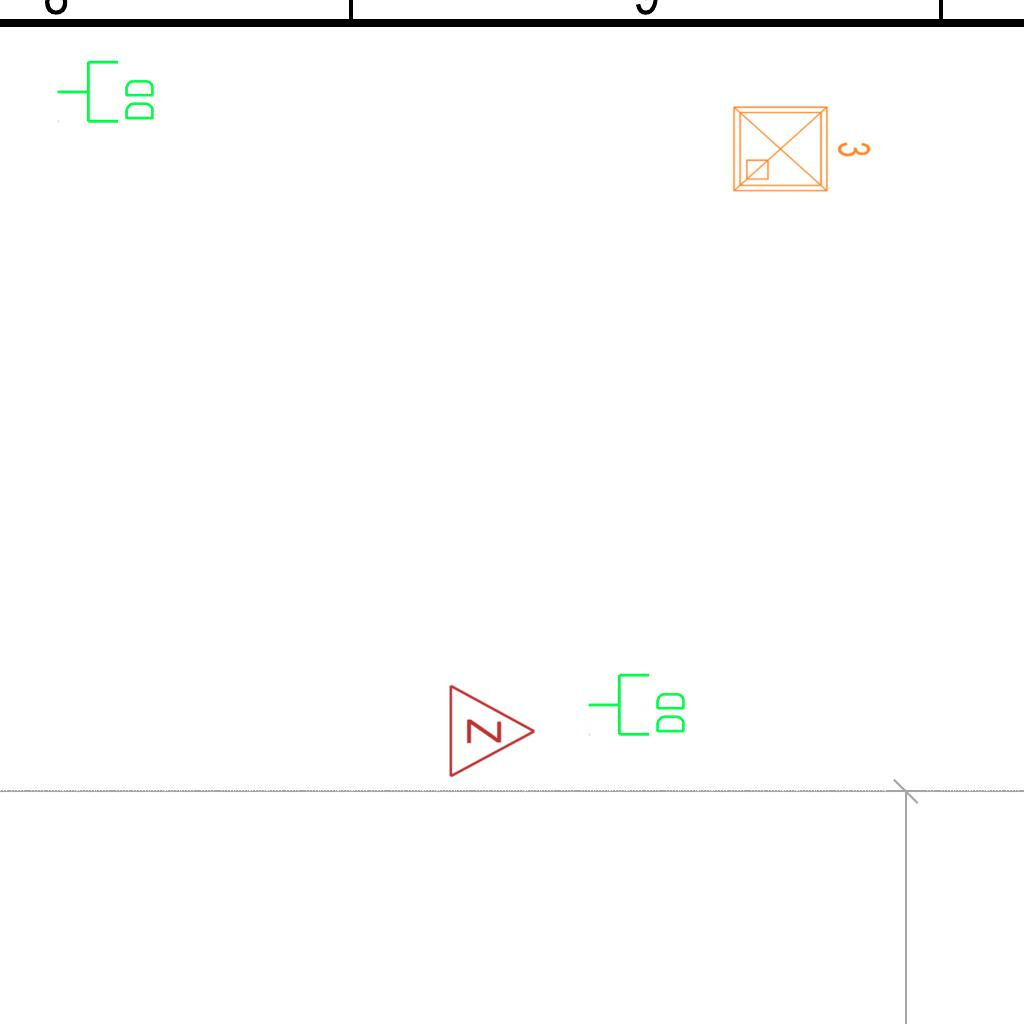Datenanschluss_zweifach: (586, 671, 689, 740), (55, 58, 158, 127)
Einbaudownlights_LED_Konferenzraeume: (726, 95, 876, 199)
Zimmersignalleuchte: (442, 681, 542, 779)
